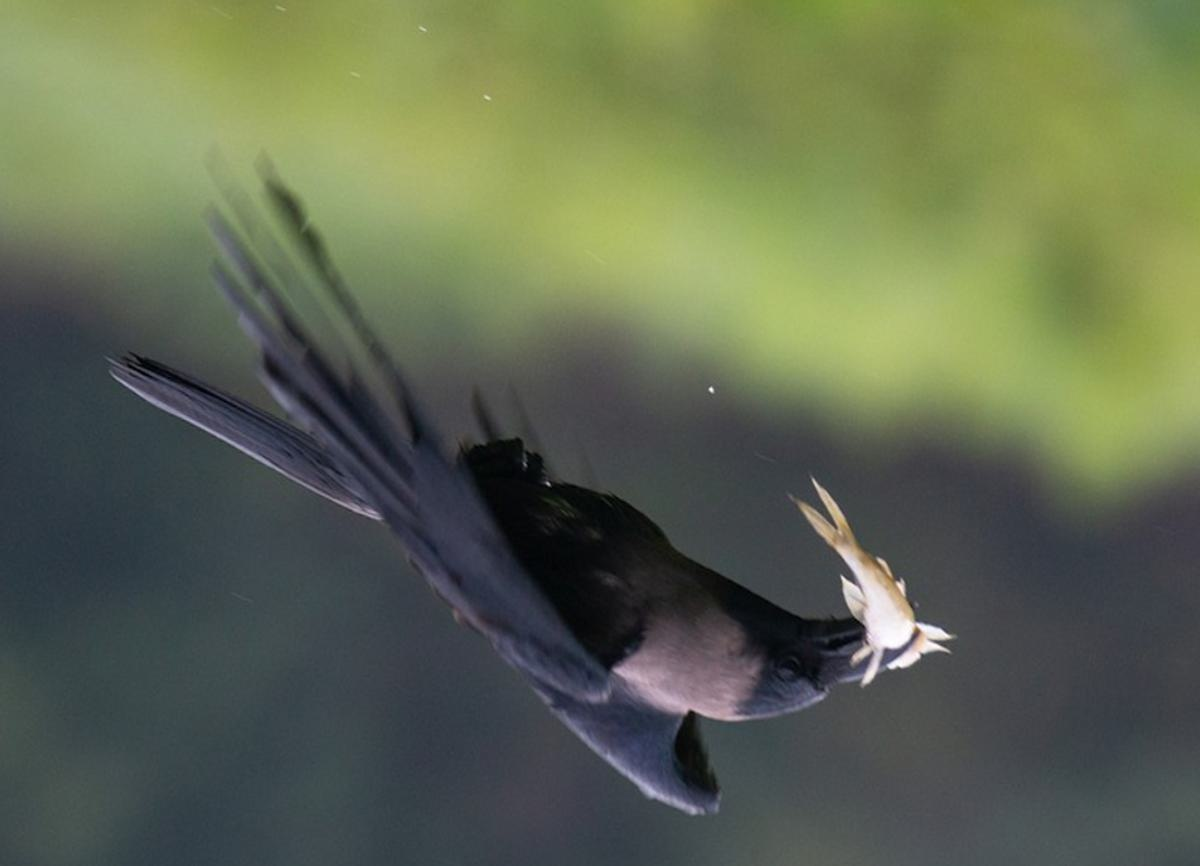crow: (125, 201, 954, 834)
